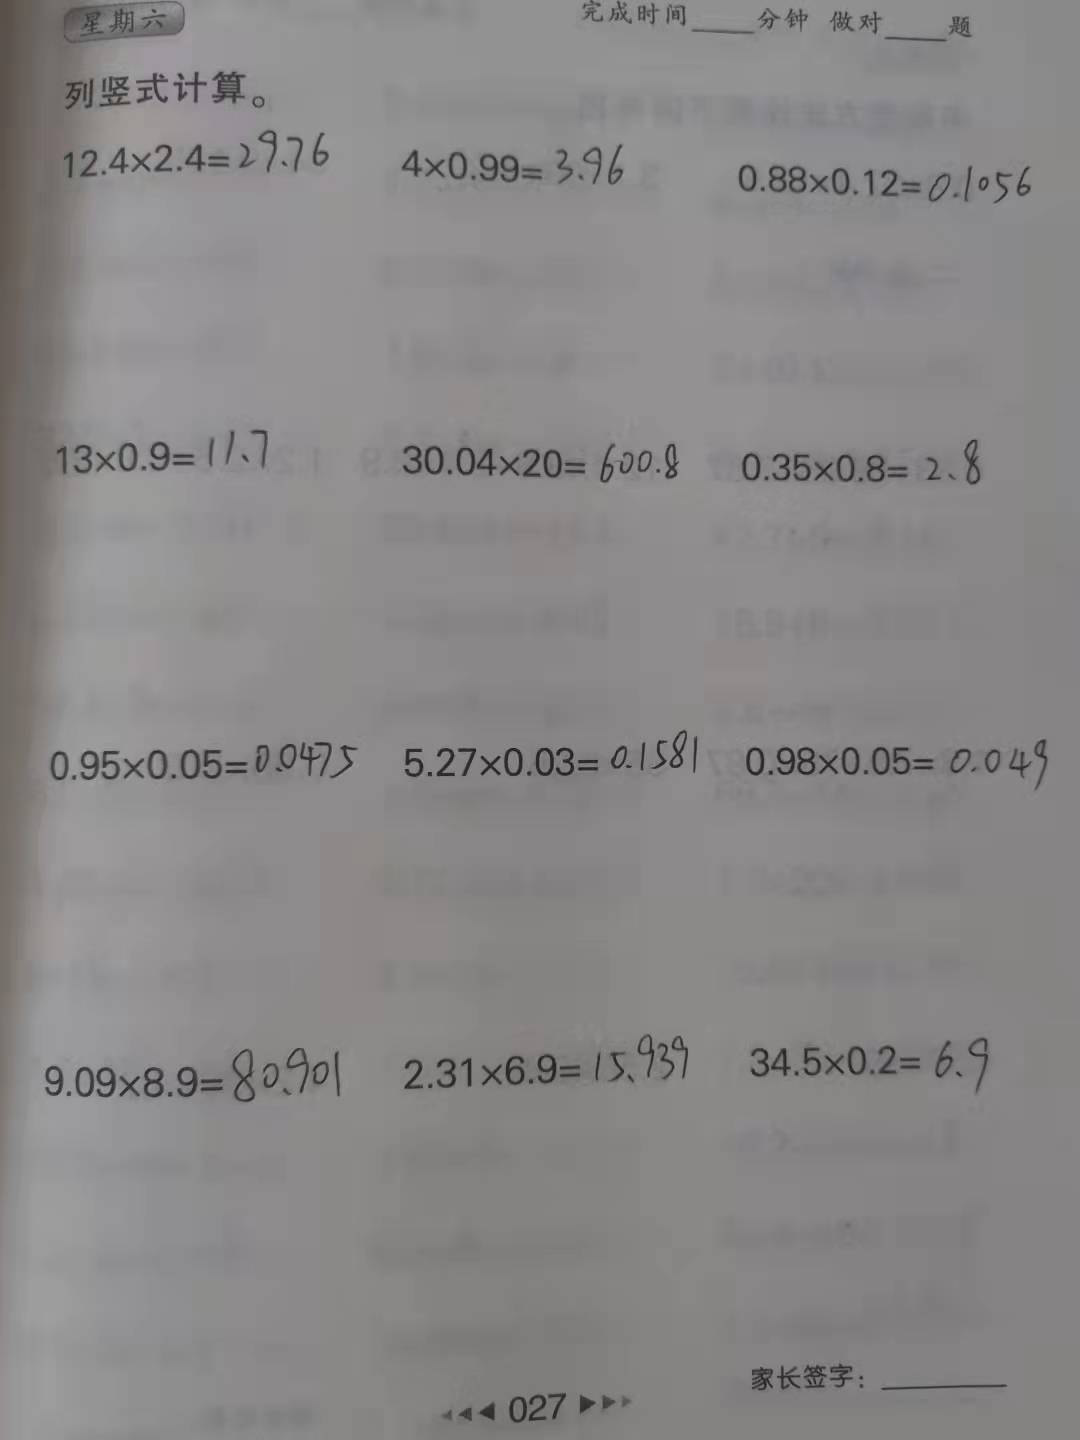equation: (37, 713, 376, 781), (31, 1037, 351, 1109), (393, 1023, 692, 1099), (52, 113, 336, 189), (729, 732, 1058, 797), (726, 142, 1047, 207), (402, 413, 682, 488), (734, 1025, 1005, 1101), (403, 722, 711, 785), (718, 427, 995, 495), (389, 133, 641, 202), (51, 416, 281, 481)
